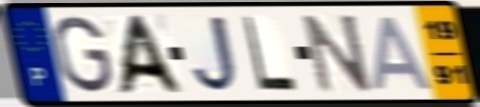A: (112, 12, 188, 95), (371, 13, 438, 92)
G: (50, 13, 116, 95)
J: (190, 13, 241, 95)
L: (240, 13, 300, 93)
N: (299, 12, 375, 95)
